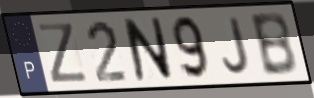2: (84, 18, 130, 84)
9: (168, 13, 212, 81)
B: (247, 10, 299, 78)
J: (220, 15, 251, 76)
N: (121, 15, 176, 83)
Z: (36, 21, 91, 85)
